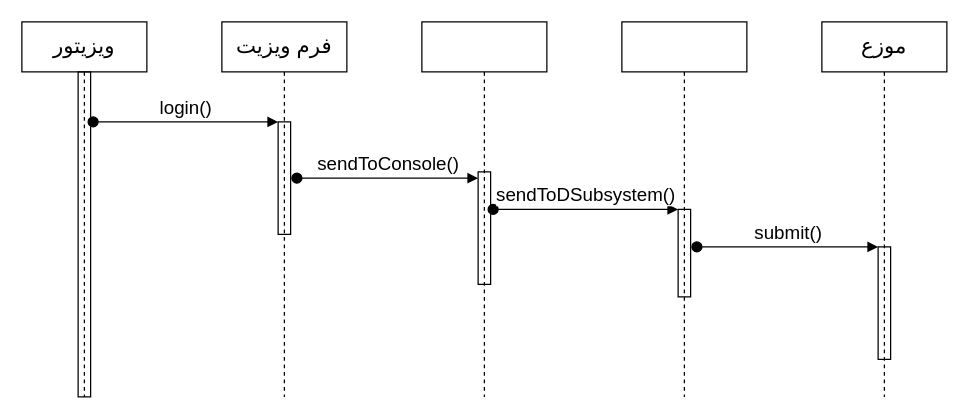
Some shapes in this 969 by 419 pixel diagram are drawn without their labels. The box of each missing label's shape, as (x1, y1, x2, y2) in pixels:
زیرسیستم پخش: (621, 21, 747, 397)
سرپرست فروش: (421, 21, 547, 397)
